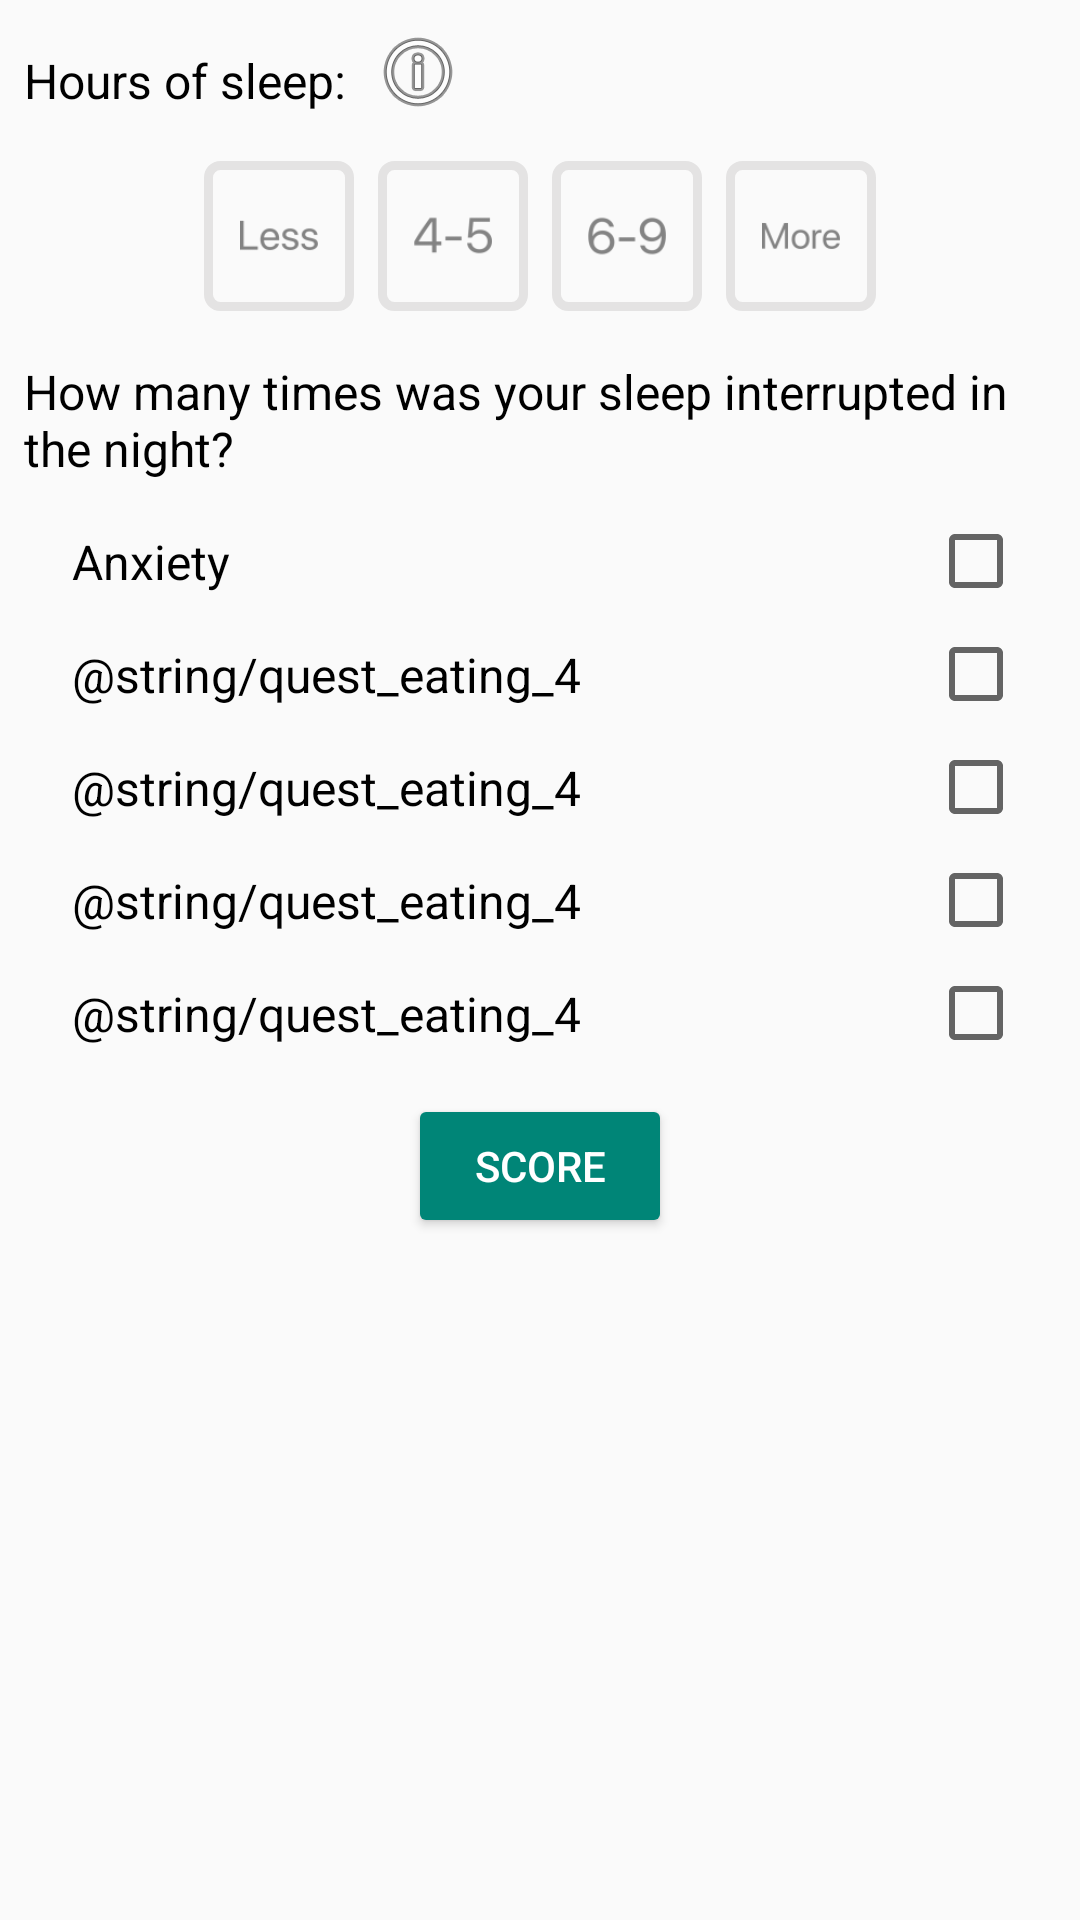

Where icons sit on this 1080 x 1920 app screen, as [left=x1, top=y1, right=x2, bottom=y2]:
info details: [left=383, top=37, right=453, bottom=107]
